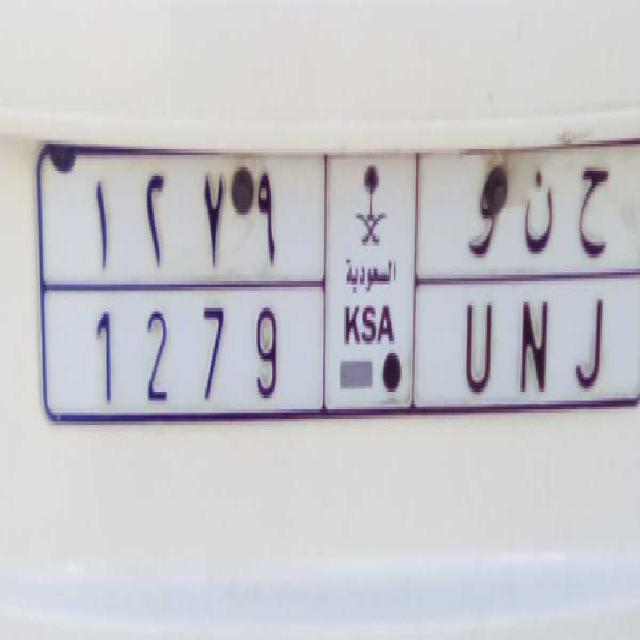license_plate: (44, 285, 632, 430)
